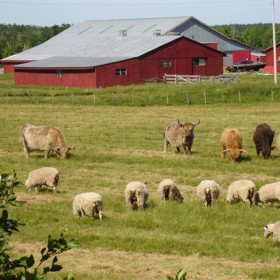sheep: (19, 124, 72, 160), (25, 169, 67, 200), (165, 120, 200, 157), (66, 190, 103, 221), (226, 178, 257, 213), (220, 127, 246, 163), (253, 123, 276, 160), (156, 178, 185, 207), (194, 178, 219, 210), (125, 182, 150, 210), (255, 179, 280, 207), (265, 221, 280, 241)
